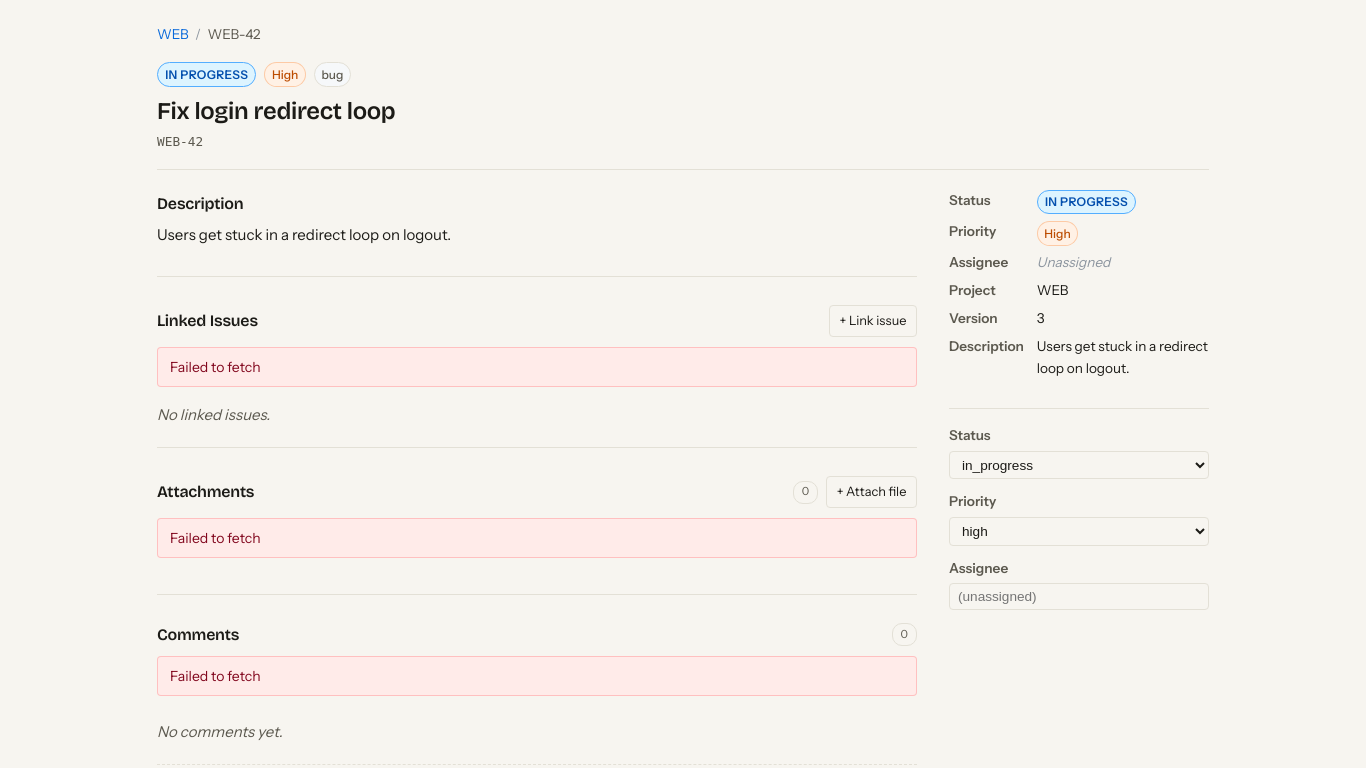
Scenario: TicketDetail › WP27: on mutation failure, an error message renders
Step 1. Select "done" in the dropdown with test id "td-status-select" → coordinates (1079, 465), box [949,451,1209,479]
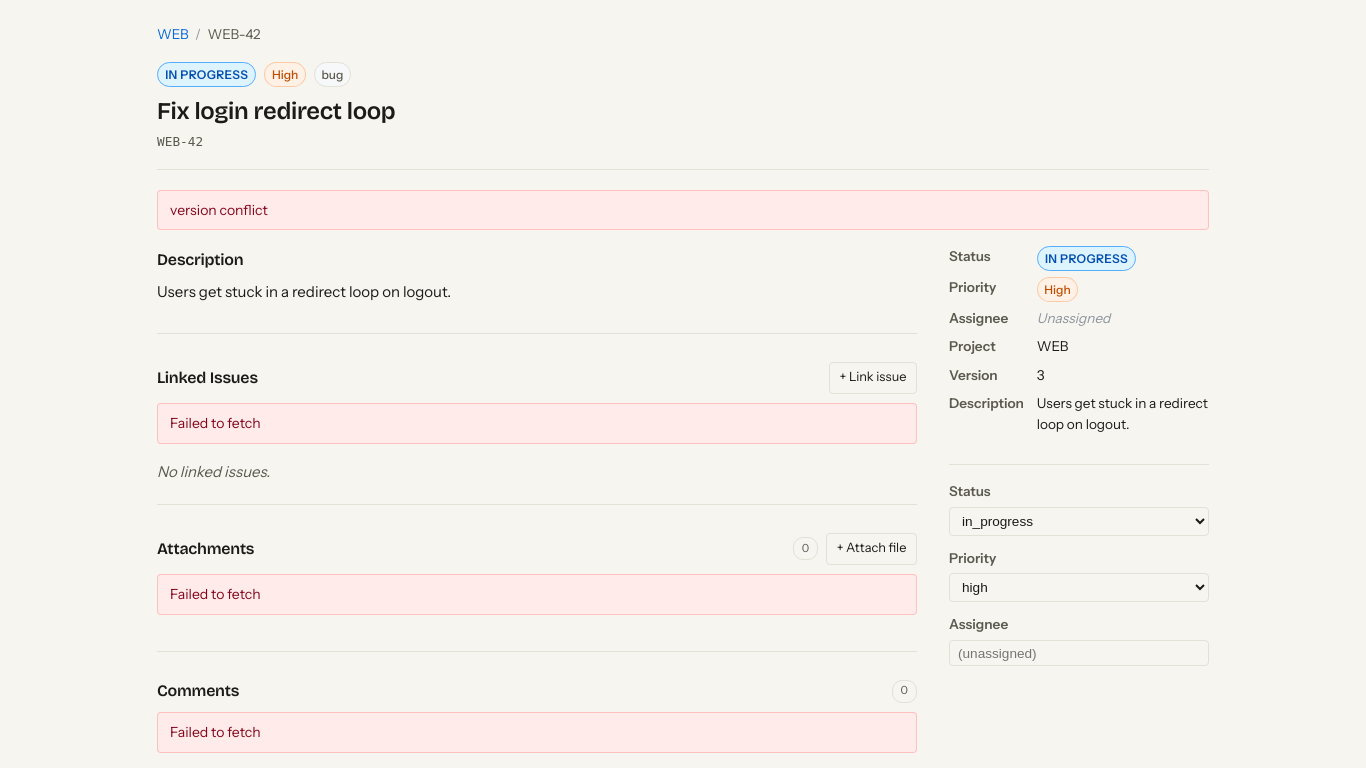
Expected: the message "version conflict" is shown, [157,190,1209,230]
Expected: the message with test id "ticket-mutate-error" reads "version conflict", [170,201,268,219]
